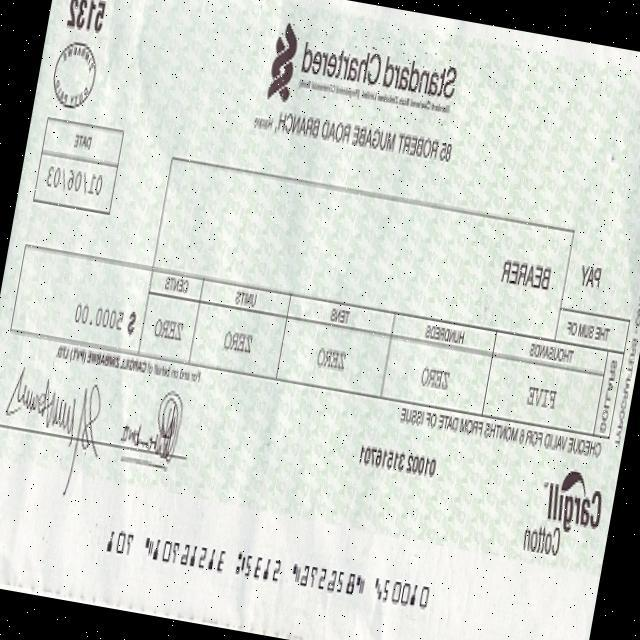Standard Chartered: (265, 17, 463, 129)
